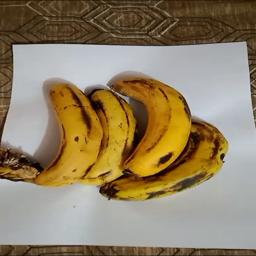Banana Unripe: (13, 75, 229, 205)
